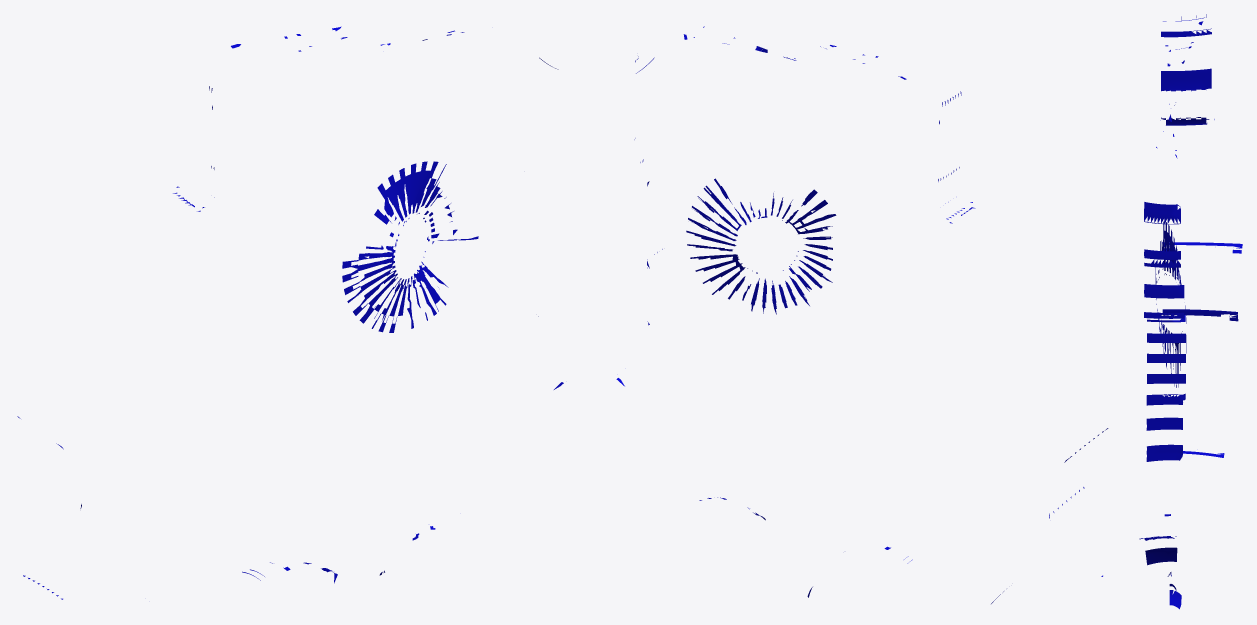
3 renders of one model, left to right at view 1: azimuth 30°, elevation 25°; view 2: azimuth 150°, elevation 25°; view 3: azimuth 270°, elevation 25°, orthographic. The views are drawn at different scales.
Size of the model in its own units: 3.23 by 3.51 by 0.6082.
